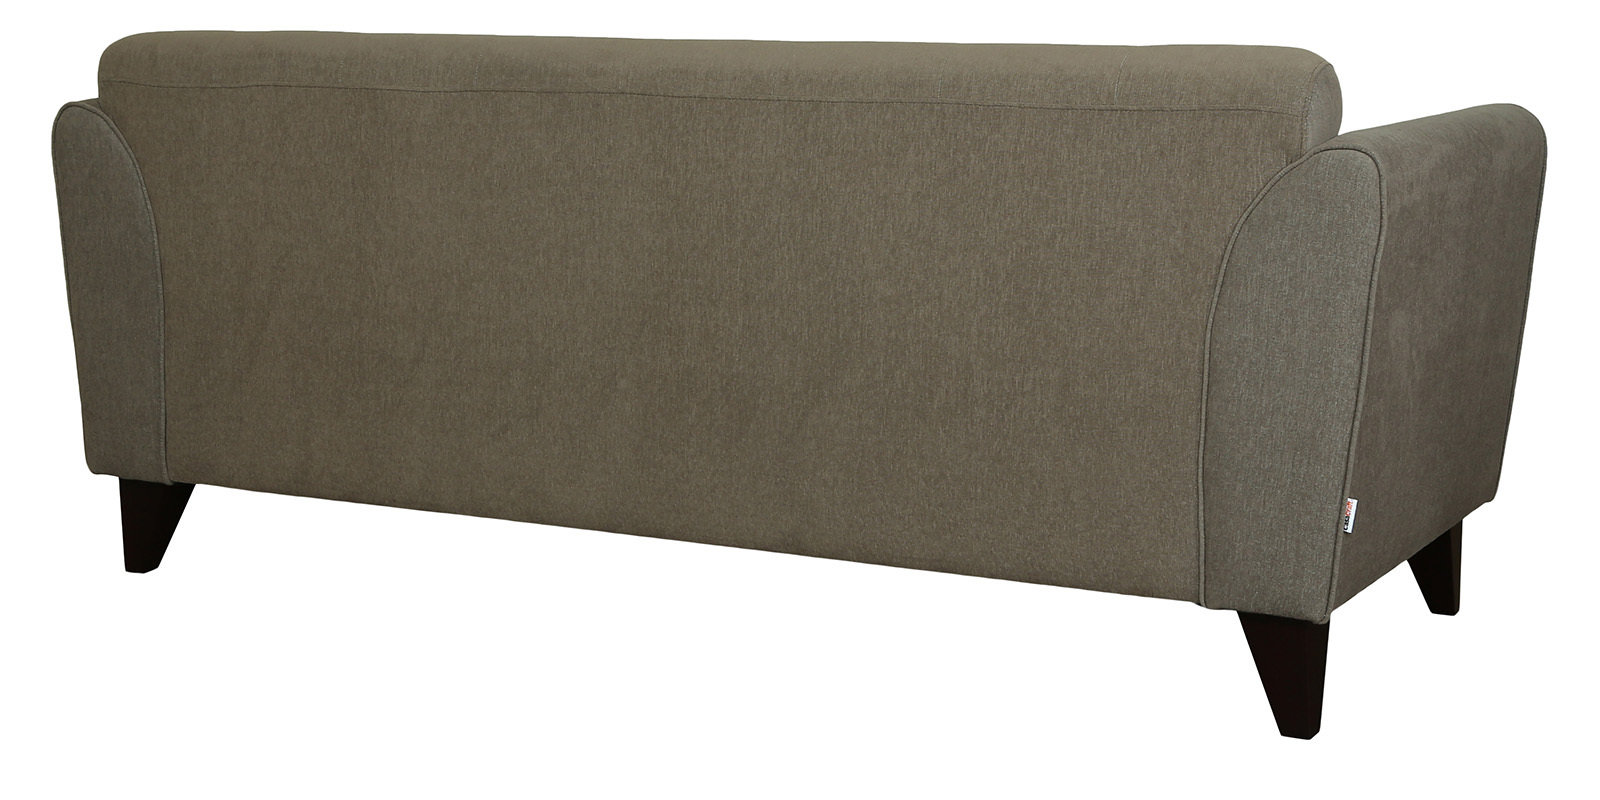Belem Three Seater Sofa in Ice Blue Color by CasaCraft: (26, 22, 1557, 676)
